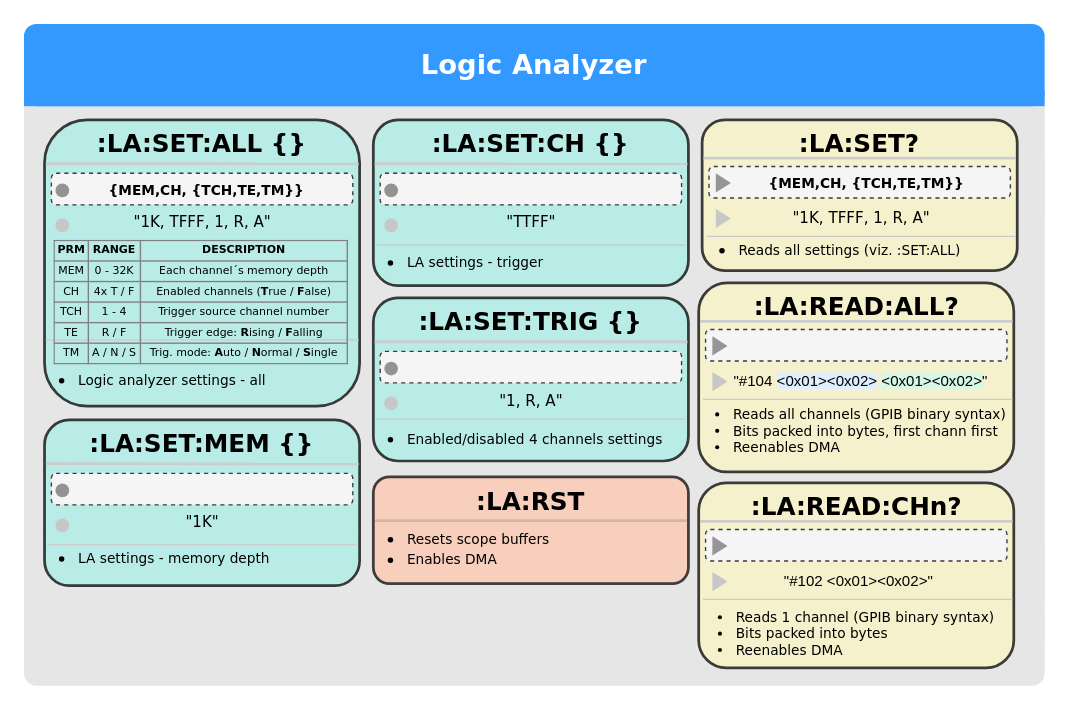
This 1067x708 diagram has some shape labels left out. Here are the shapes that lost their labels. From the top down, the centre of each, then its label:
the point at 530,188: {BBBB}; (B ⊂ { T | F})
the point at 855,344: {#DN{CH1-B0 ..}{CH2-B0 ..}}
the point at 530,366: {<1;4>,{R|F},{A|N|S}}
the point at 201,488: {<1;32K> }
the point at 855,544: {#DN B0 B1 ..}; (n ⊂ <1;4>)
